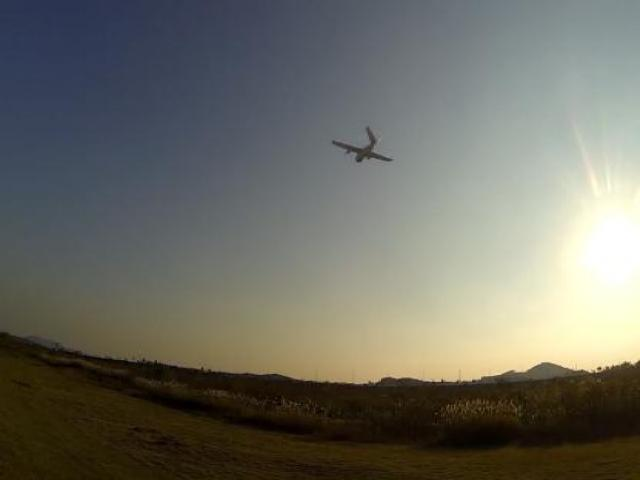uav: (325, 118, 400, 170)
